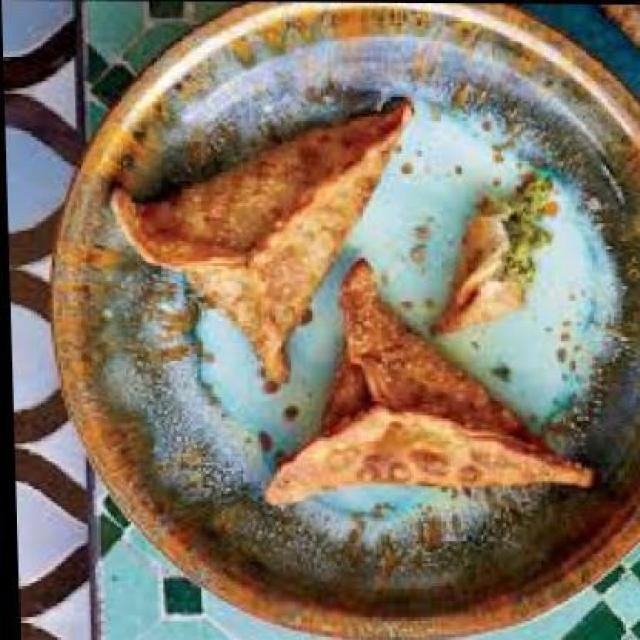samosa: (106, 92, 420, 385), (257, 257, 586, 506)
